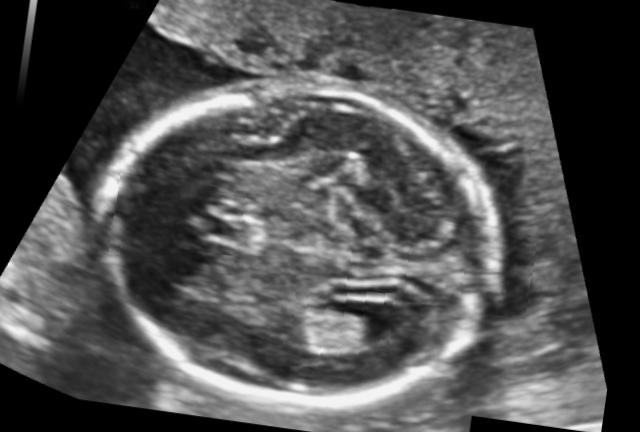CHOROID_PLEXUS: (286, 282, 398, 378)
CSP: (172, 187, 254, 258)
MIDLINE_FALX: (108, 174, 538, 318)
